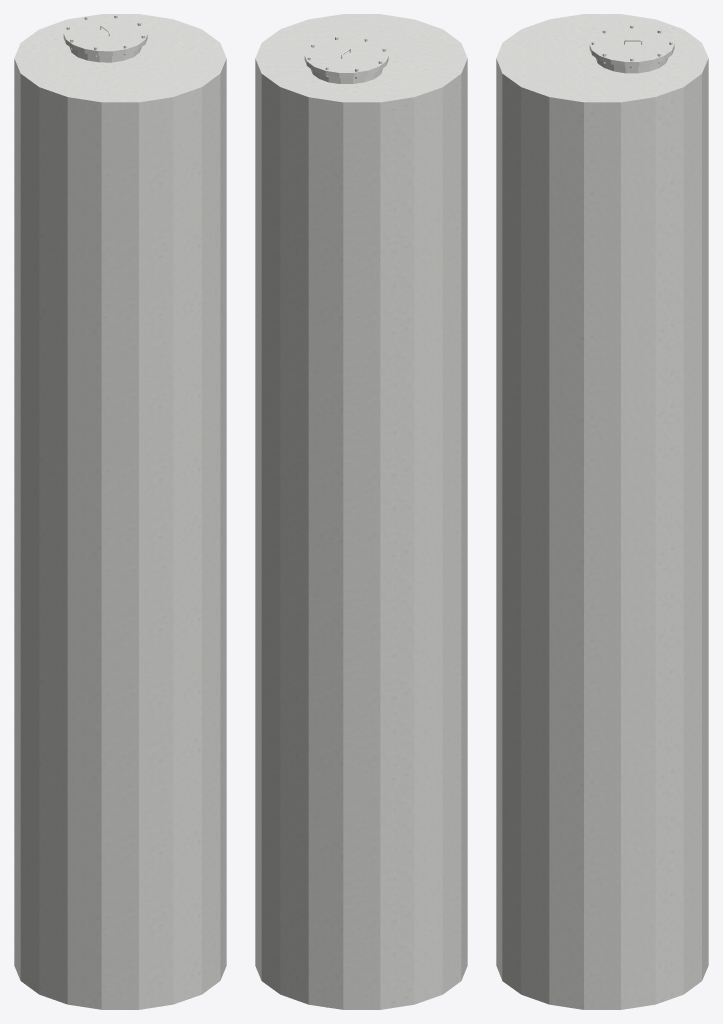
File: cyg005-geode.glb
3 renders of one model, left to right at view 1: azimuth 30°, elevation 25°; view 2: azimuth 150°, elevation 25°; view 3: azimuth 270°, elevation 25°, orthographic.
Visible parts, largest first — view 1: Node; view 2: Node; view 3: Node.
Part boxes in pixels (x1,y1,x2,y2): Node: [14, 14, 226, 1009]; Node: [255, 14, 467, 1009]; Node: [496, 14, 708, 1009].
Size of the model in its own units: 1.27 by 6.34 by 1.29.
Materials: 1 (1 with a texture image).
